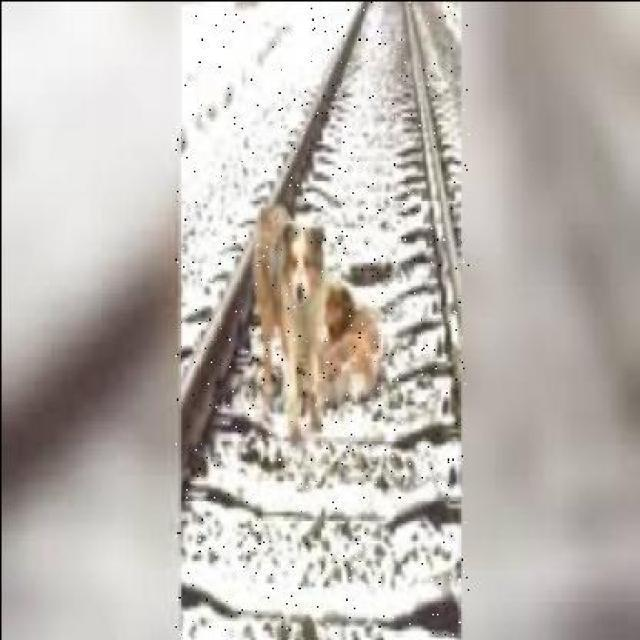rail: (176, 2, 469, 635)
